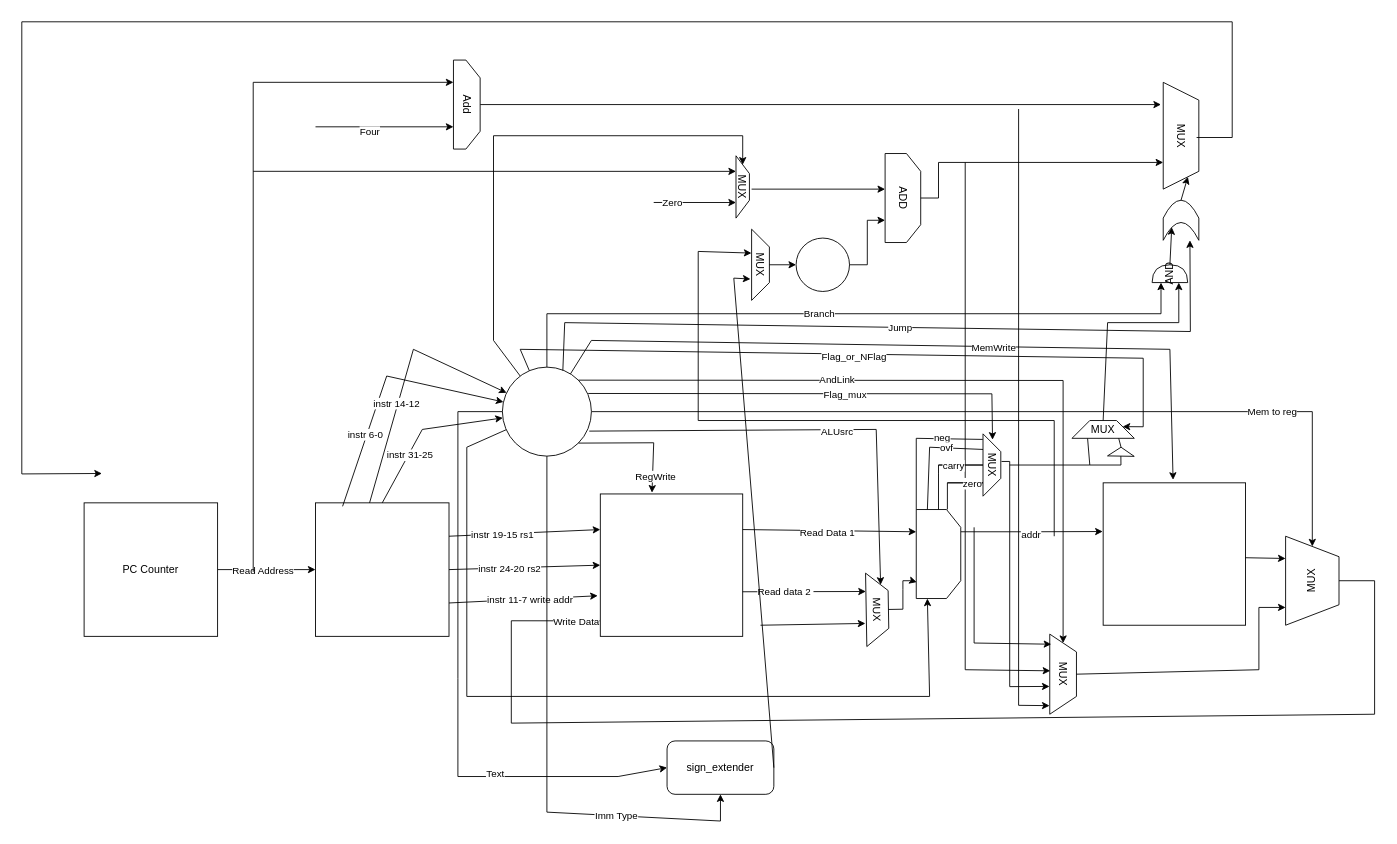
Image size: 1397x844. Some labels were removed from this diagram. Here are the shapes that lost their labels. From the top down, the centre of each, then its label:
point (1180, 219): OR
point (822, 264): Shift left 2
point (546, 411): Control Unit
point (382, 569): Instruction memory
point (671, 564): register file
point (938, 554): ALU
point (1174, 553): Memory
